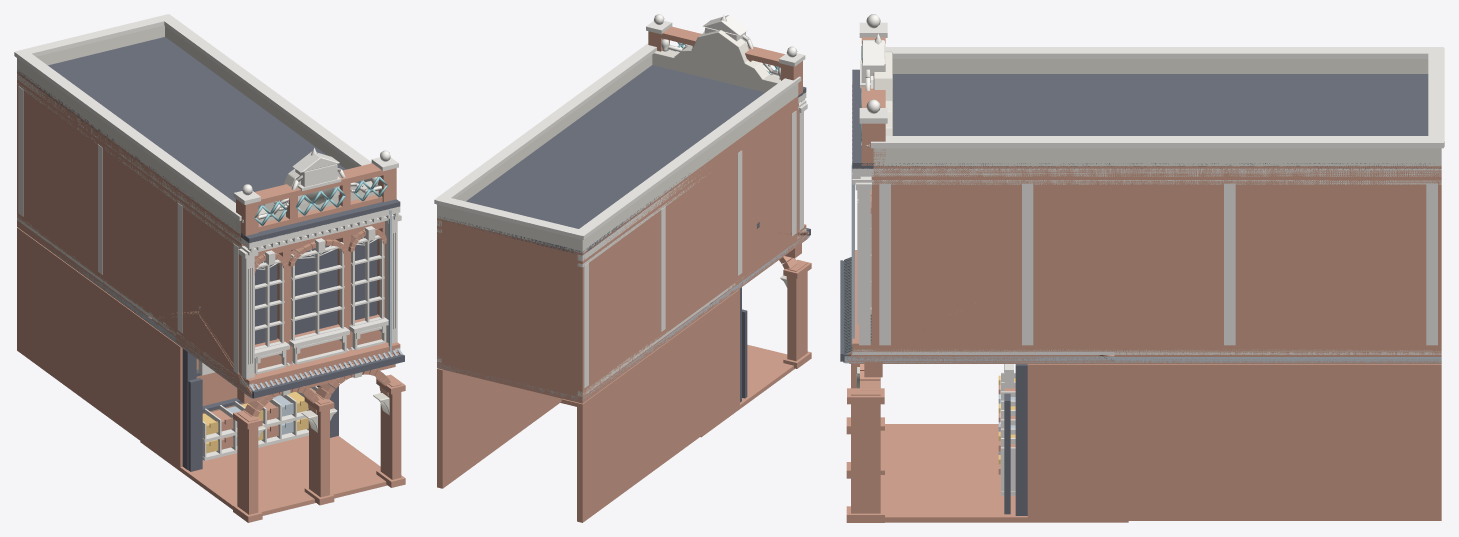
Rendered from dihua-zone2.glb.
The picture shows the model from 3 angles, left to right: view 1: azimuth 30°, elevation 25°; view 2: azimuth 150°, elevation 25°; view 3: azimuth 270°, elevation 25°; orthographic projection. The views are drawn at different scales.
Visible parts, largest first — view 1: arcade, yang, baroque_crest, baroque, yang_crest, min; view 2: yang, baroque_crest, arcade, baroque, min, yang_crest; view 3: yang, arcade, baroque_crest, baroque, min, yang_crest.
Boxes of the visible parts, x1,y1,x2,y2 form: arcade: (17, 221, 405, 522); yang: (17, 71, 400, 386); baroque_crest: (14, 14, 400, 243); baroque: (17, 74, 401, 387); yang_crest: (233, 150, 398, 237); min: (17, 217, 404, 398); yang: (437, 96, 806, 394); baroque_crest: (434, 14, 806, 254); arcade: (437, 230, 811, 522); baroque: (437, 92, 807, 396); min: (437, 222, 810, 401); yang_crest: (646, 14, 805, 95); yang: (852, 166, 1441, 351); arcade: (846, 351, 1441, 522); baroque_crest: (852, 33, 1444, 169); baroque: (851, 83, 1441, 354); min: (840, 257, 1441, 363); yang_crest: (859, 14, 887, 165).
Bounding box in the file's own units: 4.81 × 10.14 × 12.55.
